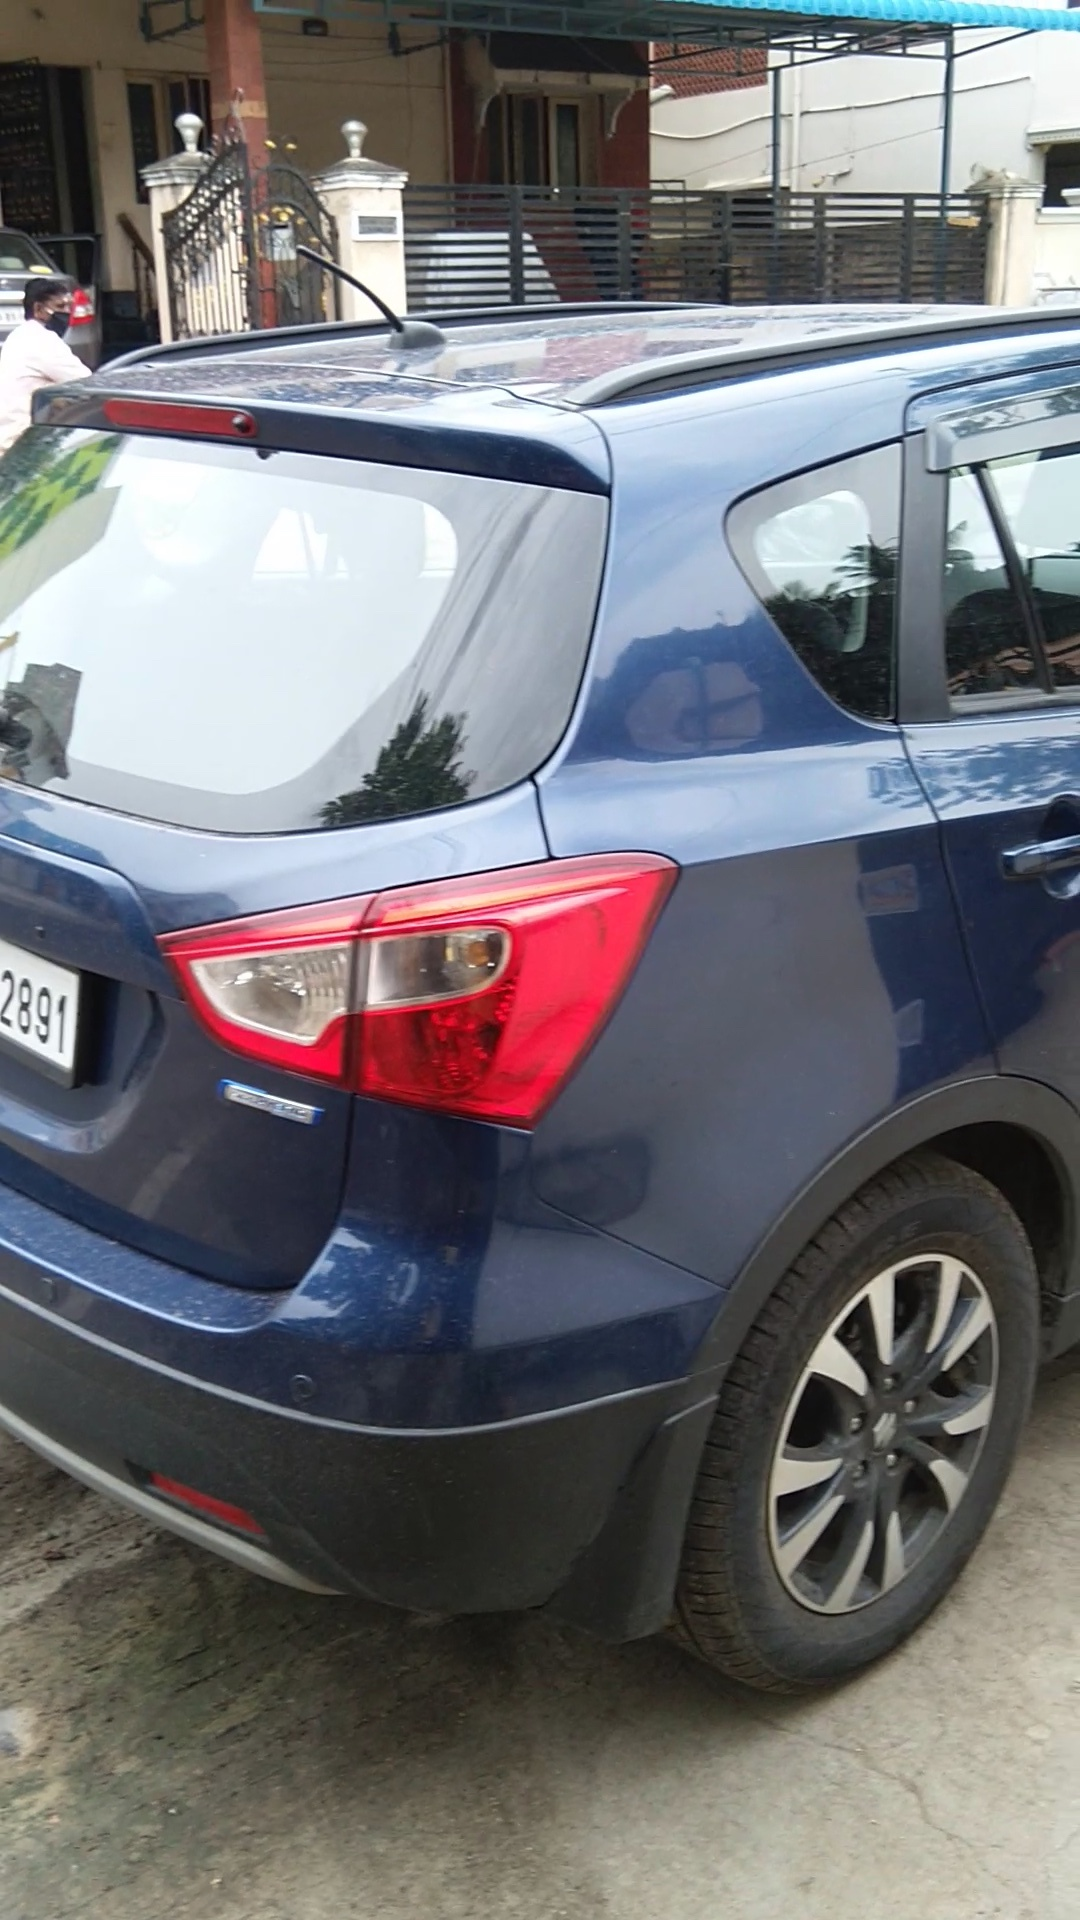alloy_wheel: (679, 1170, 1059, 1712)
rear_camera: (224, 402, 256, 444)
shvs: (206, 1065, 336, 1147)
